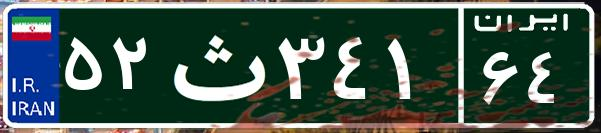1: (385, 28, 445, 110)
2: (110, 28, 158, 105)
3: (273, 28, 330, 110)
4: (330, 28, 385, 110), (525, 38, 570, 115)
5: (57, 26, 110, 107)
6: (475, 38, 525, 113)
ث: (158, 15, 273, 115)
